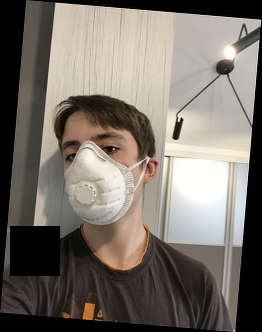with_mask: (58, 127, 138, 225)
